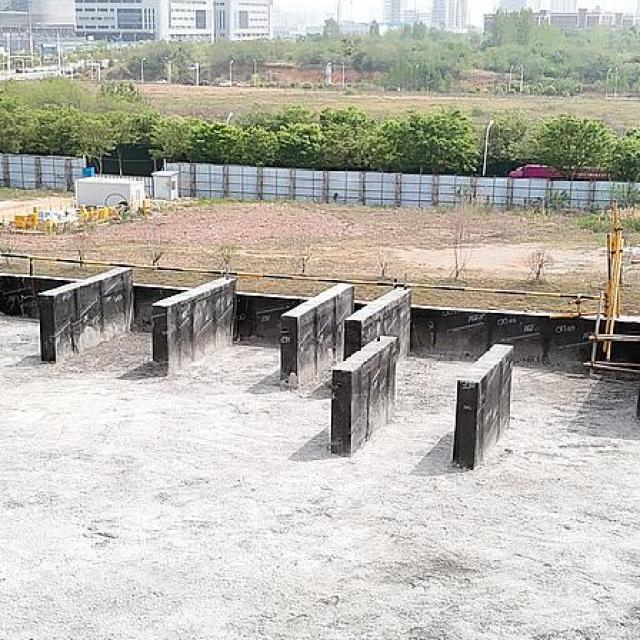edge_guardrail: (0, 253, 606, 313)
